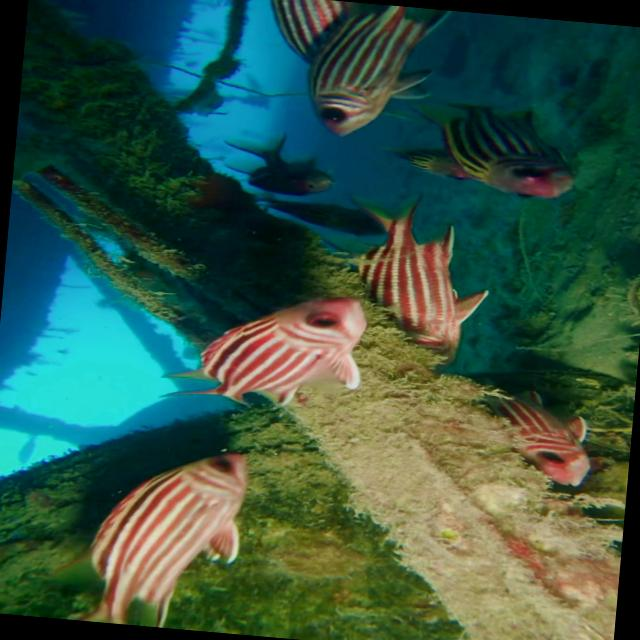Asker Baligi: (69, 438, 254, 634), (153, 279, 371, 419), (404, 97, 604, 199), (297, 0, 423, 143), (494, 388, 599, 492)
